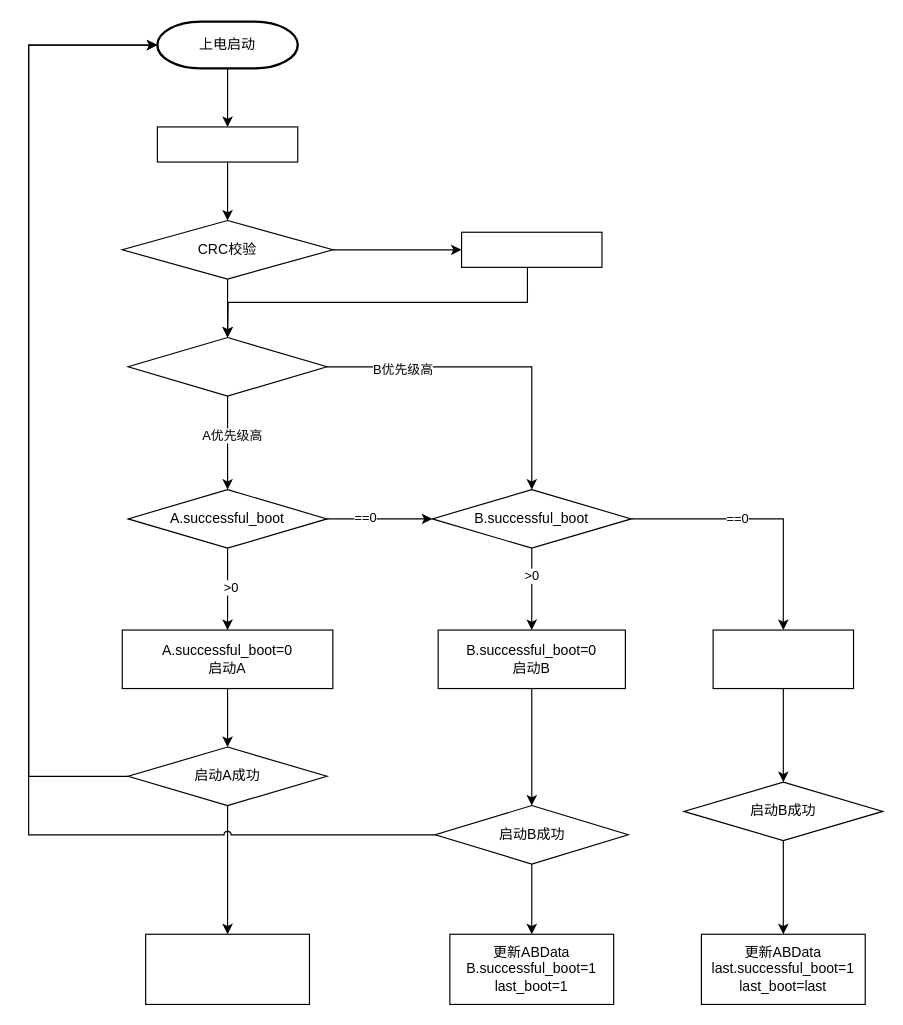
The diagram is 903 pixels wide and 1025 high, and some of its shapes have lost their labels. Here are the shapes that lost their labels. From the top down, the centre of each, then its label:
At (227,144): "SPL 加载PART分区".
At (531,249): "初始化ABData".
At (227,366): "比较SLOT优先级".
At (783,659): "启动last_boot".
At (226,968): "更新ABData A.successful_boot=1 last_boot=0".
